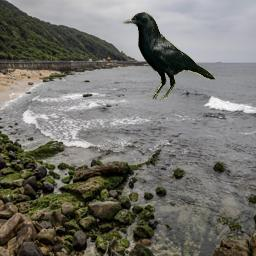Crow: (122, 12, 216, 100)
